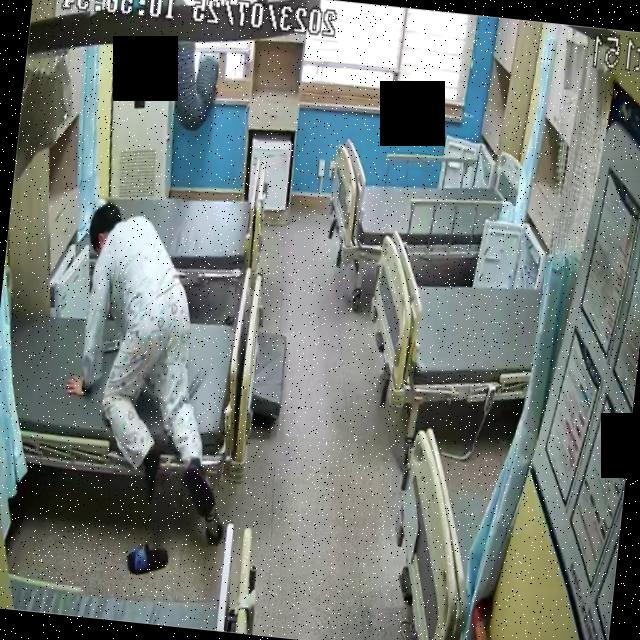bed: (0, 242, 268, 491), (70, 128, 270, 304), (362, 233, 542, 415), (326, 143, 505, 275)
danger: (51, 201, 255, 515)
patient: (49, 200, 252, 518)
